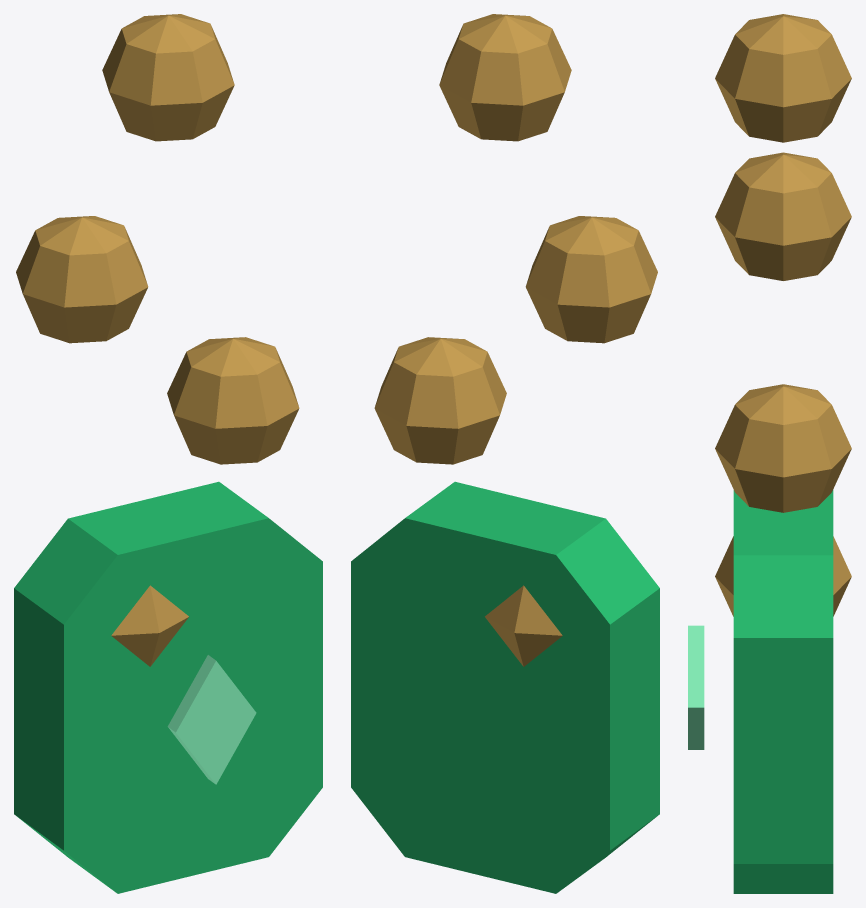
Rendered from chain_talisman.obj.
3 renders of one model, left to right at view 1: azimuth 30°, elevation 25°; view 2: azimuth 150°, elevation 25°; view 3: azimuth 270°, elevation 25°, orthographic.
Visible parts, largest first — view 1: chain_talisman, chain_talisman_edge, chain_00, chain_02, chain_01, chain_glint, chain_03, chain_glint_edge; view 2: chain_talisman, chain_talisman_edge, chain_00, chain_02, chain_01, chain_03; view 3: chain_talisman_edge, chain_01, chain_00, chain_02, chain_glint_edge, chain_03.
Part boxes in pixels (x1,y1,x2,y2): chain_talisman: (64, 518, 322, 893); chain_talisman_edge: (14, 481, 268, 892); chain_00: (102, 14, 234, 141); chain_02: (167, 337, 299, 464); chain_01: (16, 216, 148, 343); chain_glint: (176, 661, 256, 784); chain_03: (111, 585, 188, 666); chain_glint_edge: (167, 655, 215, 784); chain_talisman: (351, 518, 609, 893); chain_talisman_edge: (405, 481, 659, 892); chain_00: (439, 14, 571, 141); chain_02: (374, 337, 506, 464); chain_01: (525, 216, 657, 343); chain_03: (485, 585, 562, 666); chain_talisman_edge: (733, 490, 833, 893); chain_01: (715, 152, 851, 280); chain_00: (715, 14, 851, 142); chain_02: (715, 384, 851, 512); chain_glint_edge: (688, 625, 704, 749); chain_03: (715, 536, 851, 616).
Bounding box in the file's own units: 0.255 × 0.745 × 0.1316.
